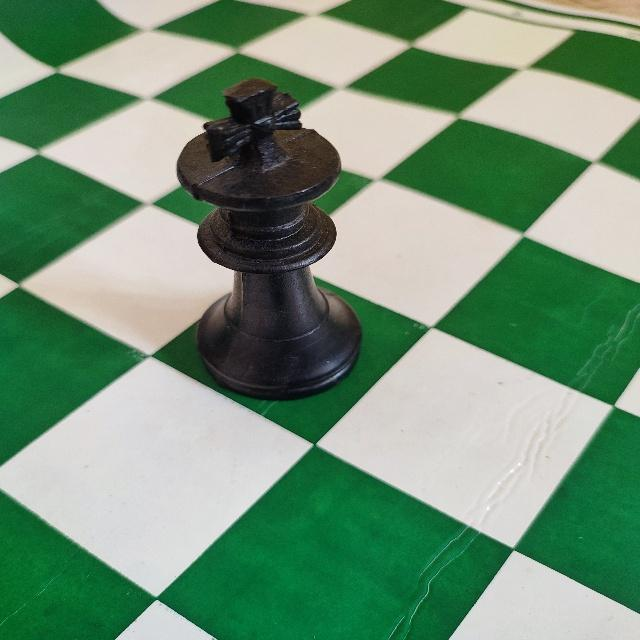King: (173, 74, 365, 405)
